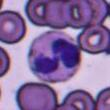N: (28, 31, 82, 82)
